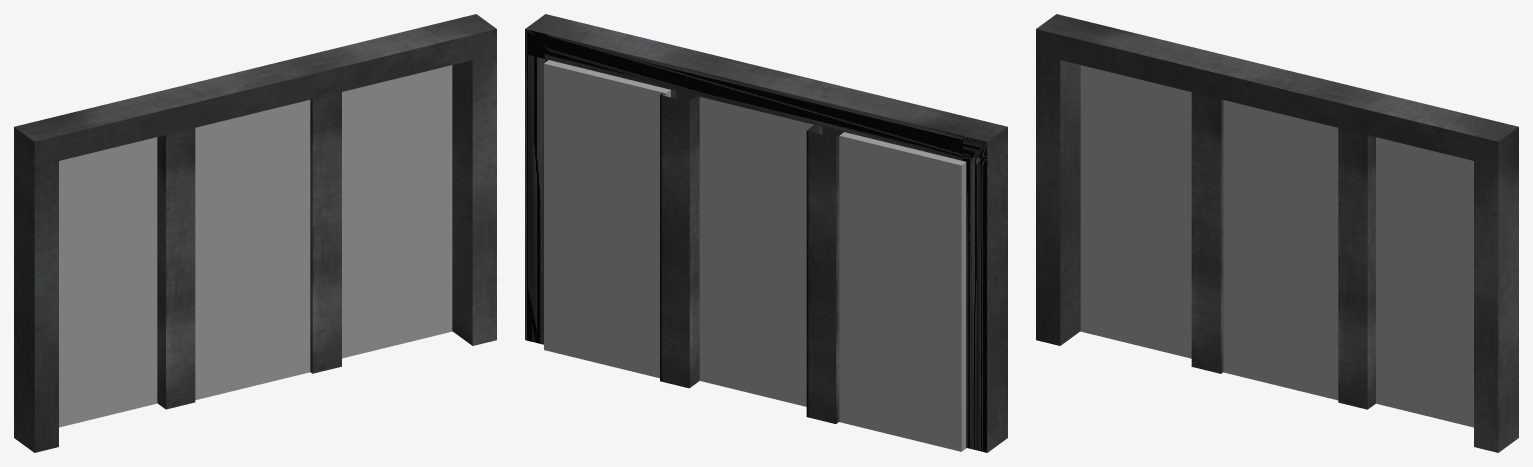
File: bigDoor.fbx
3 renders of one model, left to right at view 1: azimuth 30°, elevation 25°; view 2: azimuth 150°, elevation 25°; view 3: azimuth 330°, elevation 25°, orthographic.
Parts seen in each view (by area): view 1: pPlane4, pCube5, pCube4, pCube3, pCube1, pCube6; view 2: pPlane4, pCube3, pCube4, pCube5, pCube6, pCube1; view 3: pPlane4, pCube5, pCube3, pCube4, pCube6, pCube1.
Boxes of the visible parts, <box> form: pPlane4: <box>14,14,496,452</box>; pCube5: <box>195,100,310,400</box>; pCube4: <box>342,65,452,358</box>; pCube3: <box>59,137,157,427</box>; pCube1: <box>157,128,195,409</box>; pCube6: <box>310,92,341,373</box>; pPlane4: <box>525,14,1007,452</box>; pCube3: <box>839,132,966,451</box>; pCube4: <box>544,60,670,378</box>; pCube5: <box>699,97,820,406</box>; pCube6: <box>660,90,699,388</box>; pCube1: <box>806,125,843,423</box>; pPlane4: <box>1036,14,1518,452</box>; pCube5: <box>1223,100,1338,400</box>; pCube3: <box>1080,65,1191,358</box>; pCube4: <box>1376,137,1473,427</box>; pCube6: <box>1338,128,1375,409</box>; pCube1: <box>1191,92,1223,373</box>.
Size of the model in its own units: 392 by 252 by 41.82.
